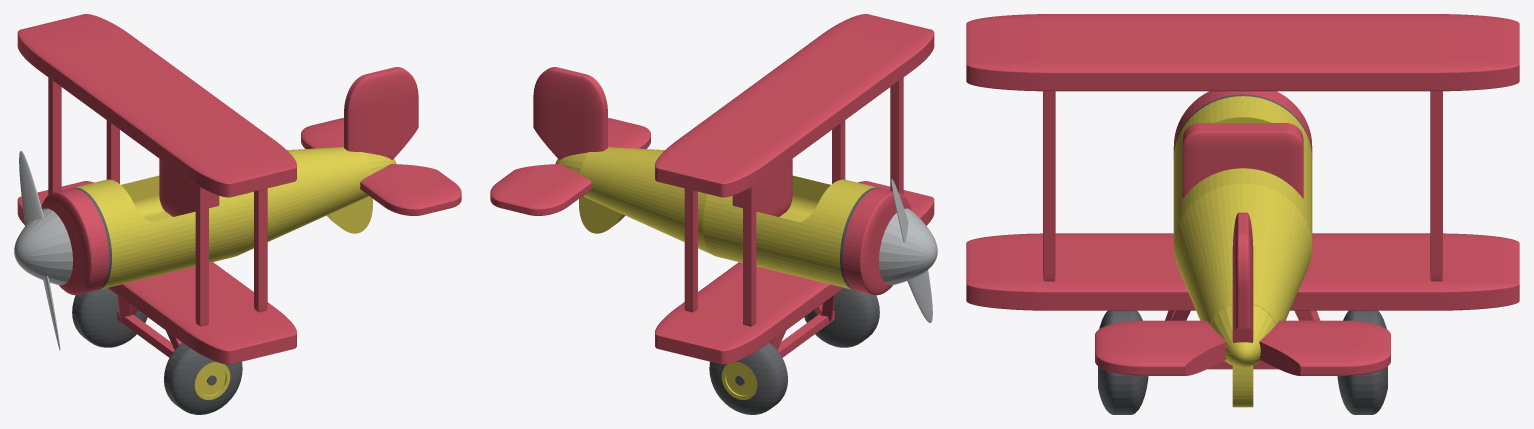
Rendered from aviaozinho.glb.
3 views of the same model, side by side, from view 1: azimuth 30°, elevation 25°; view 2: azimuth 150°, elevation 25°; view 3: azimuth 270°, elevation 25° (orthographic). The views are drawn at different scales.
Parts seen in each view (by area): view 1: Mesh_Mesh_head_geo.001_lambert2SG.001; view 2: Mesh_Mesh_head_geo.001_lambert2SG.001; view 3: Mesh_Mesh_head_geo.001_lambert2SG.001.
Part boxes in pixels (bbox=[...]): Mesh_Mesh_head_geo.001_lambert2SG.001: bbox=[14, 14, 461, 414]; Mesh_Mesh_head_geo.001_lambert2SG.001: bbox=[490, 14, 937, 414]; Mesh_Mesh_head_geo.001_lambert2SG.001: bbox=[966, 14, 1519, 414].
Size of the model in its own units: 87.7 by 59 by 80.
